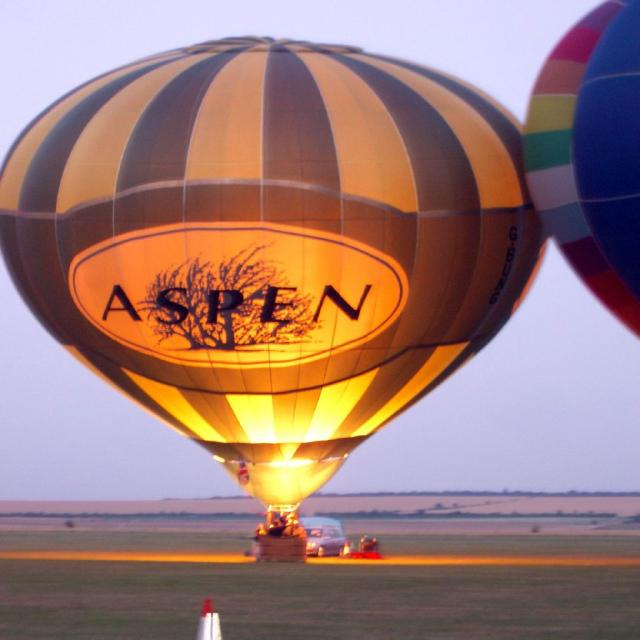balloon: (2, 34, 551, 546)
